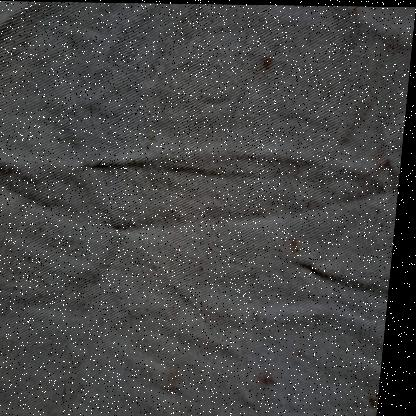spot: (173, 359, 195, 397), (261, 366, 287, 392), (288, 228, 308, 256), (259, 49, 277, 76), (376, 147, 389, 172), (149, 128, 163, 148), (237, 226, 250, 245), (300, 344, 312, 364), (375, 389, 386, 409), (20, 196, 31, 216), (207, 243, 220, 259), (84, 375, 93, 393), (215, 185, 226, 199), (201, 260, 211, 274), (378, 201, 387, 215), (382, 216, 391, 230), (0, 87, 5, 112), (0, 213, 1, 237)
